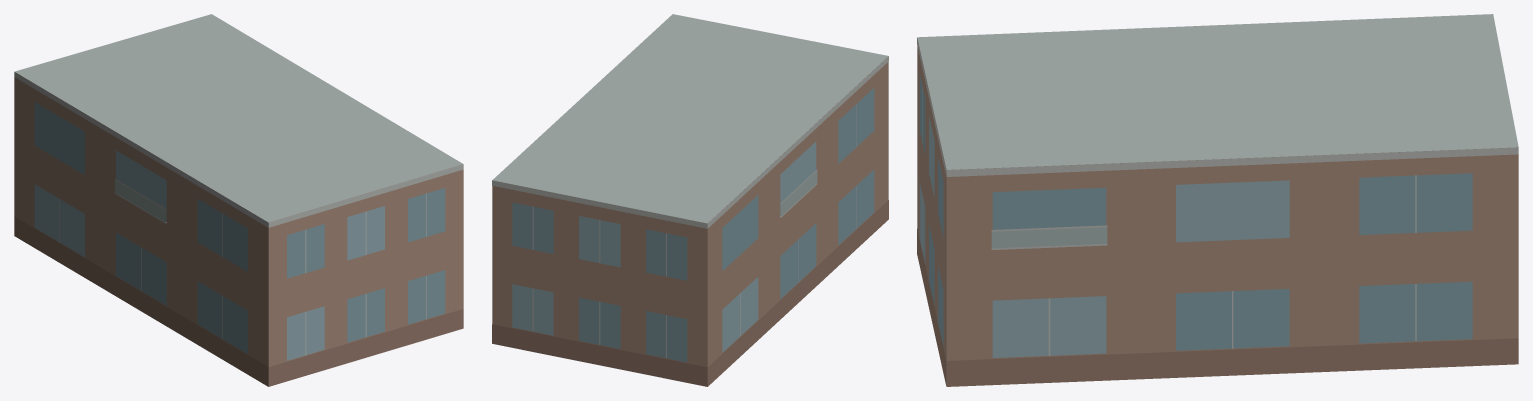
The model's file is survey-upis-32739903.glb.
The picture shows the model from 3 angles, left to right: view 1: azimuth 30°, elevation 25°; view 2: azimuth 150°, elevation 25°; view 3: azimuth 270°, elevation 25°; orthographic projection. The views are drawn at different scales.
Visible parts, largest first — view 1: survey-upis-32739903.tmp; view 2: survey-upis-32739903.tmp; view 3: survey-upis-32739903.tmp.
Part boxes in pixels (box(x1,y1,x2,y2)): survey-upis-32739903.tmp: box(14, 14, 463, 386); survey-upis-32739903.tmp: box(492, 14, 888, 386); survey-upis-32739903.tmp: box(917, 14, 1518, 386).
Bounding box in the file's own units: 11.58 × 7.5 × 18.86.
